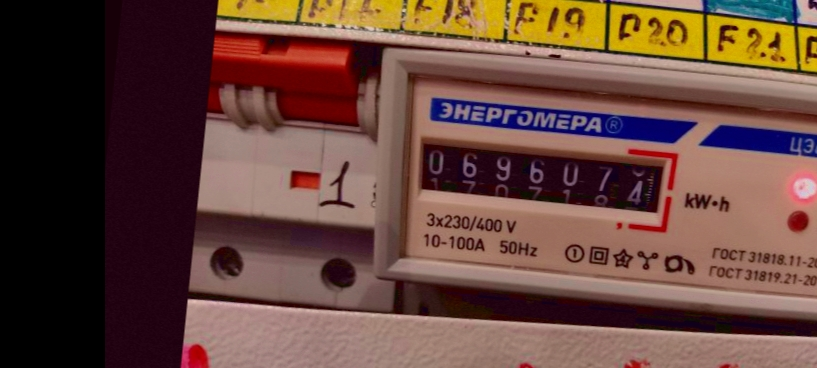0: (425, 148, 448, 178), (561, 159, 582, 190), (461, 152, 480, 179)
4: (625, 179, 645, 208)
6: (526, 155, 547, 187)
7: (594, 163, 615, 194)
9: (493, 154, 514, 184)
screen: (400, 123, 681, 234)
